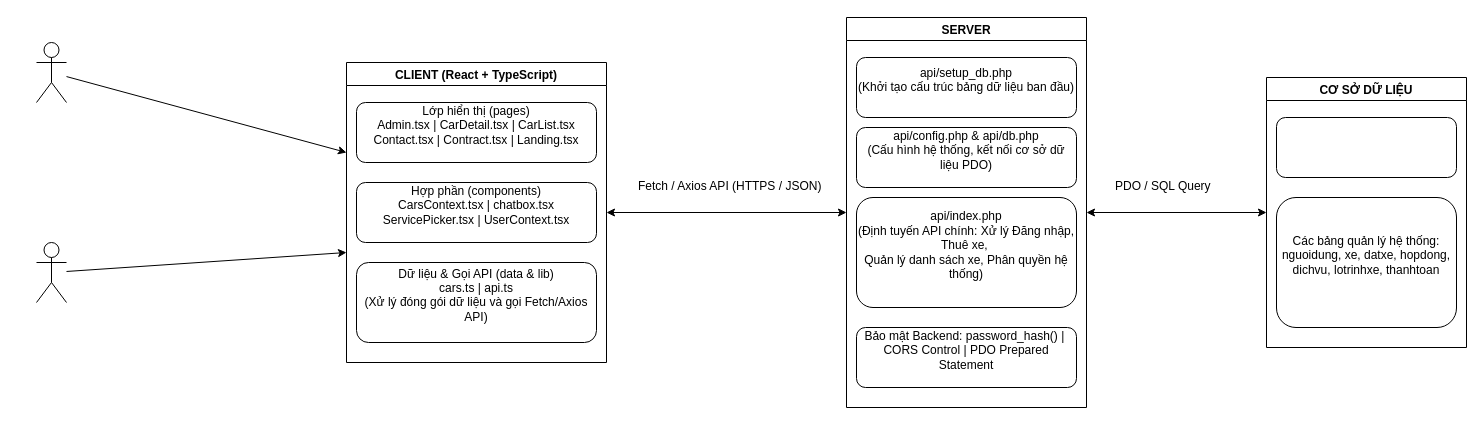
The diagram is 1484 pixels wide and 425 high, and some of its shapes have lost their labels. Each missing label, with the centre of its shape:
"MySQL / MariaDB (Kết nối qua db.php bằng PDO)" belongs at point (1366, 147).
"Người dùng" belongs at point (51, 72).
"Quản trị viên" belongs at point (51, 272).
